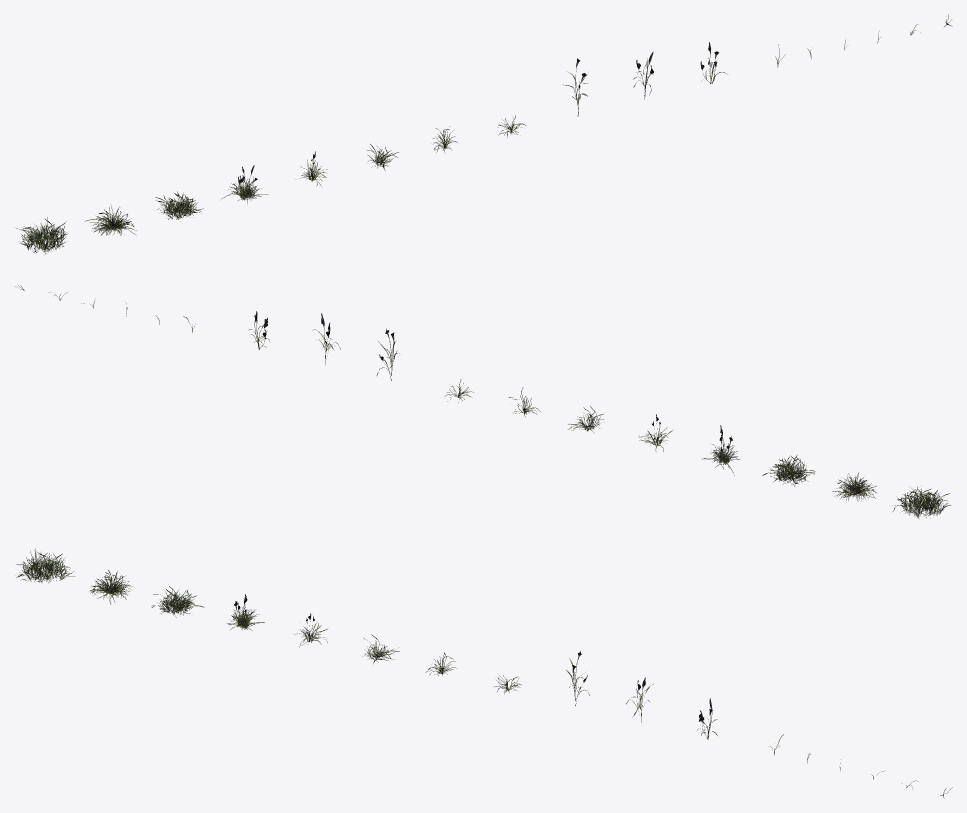
The model's file is grass_medium_01.glb.
3 views of the same model, one above another, from view 1: azimuth 30°, elevation 25°; view 2: azimuth 150°, elevation 25°; view 3: azimuth 330°, elevation 25° (orthographic).
Parts seen in each view (by area): view 1: grass_medium_01_large_a_LOD0, grass_medium_01_large_c_LOD0, grass_medium_01_large_b_LOD0; view 2: grass_medium_01_large_a_LOD0, grass_medium_01_large_c_LOD0, grass_medium_01_large_b_LOD0; view 3: grass_medium_01_large_a_LOD0, grass_medium_01_large_c_LOD0, grass_medium_01_large_b_LOD0.
Boxes of the visible parts, x1,y1,x2,y2 form: grass_medium_01_large_a_LOD0: [16, 217, 67, 254]; grass_medium_01_large_c_LOD0: [155, 191, 203, 219]; grass_medium_01_large_b_LOD0: [85, 205, 136, 235]; grass_medium_01_large_a_LOD0: [893, 486, 950, 518]; grass_medium_01_large_c_LOD0: [762, 455, 815, 486]; grass_medium_01_large_b_LOD0: [832, 473, 876, 501]; grass_medium_01_large_a_LOD0: [16, 548, 75, 583]; grass_medium_01_large_c_LOD0: [151, 586, 204, 617]; grass_medium_01_large_b_LOD0: [89, 570, 132, 604].
Size of the model in its own units: 5.6 by 0.3418 by 0.3266.
Materials: 1 (1 with a texture image).
